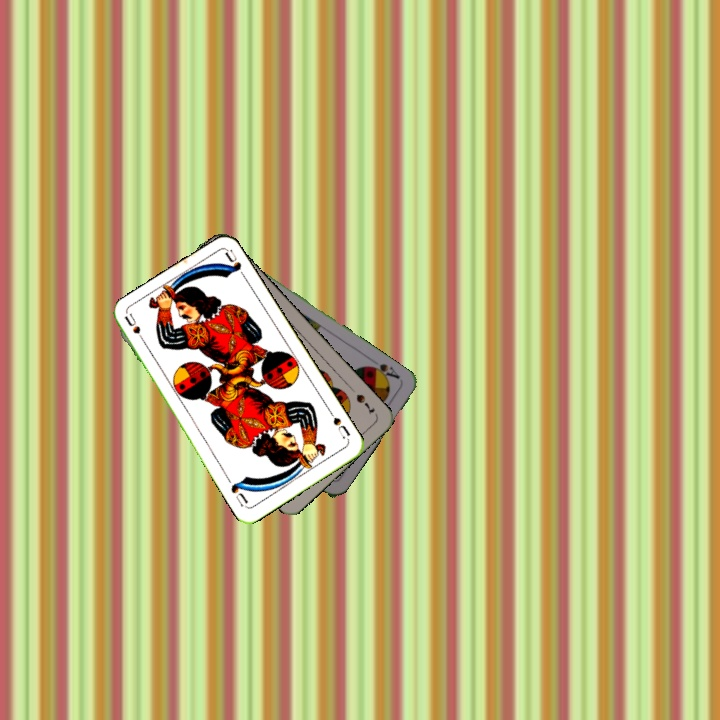S7: (352, 390, 378, 416)
SA: (364, 359, 403, 384)
SU: (121, 310, 150, 349), (325, 407, 353, 443)
